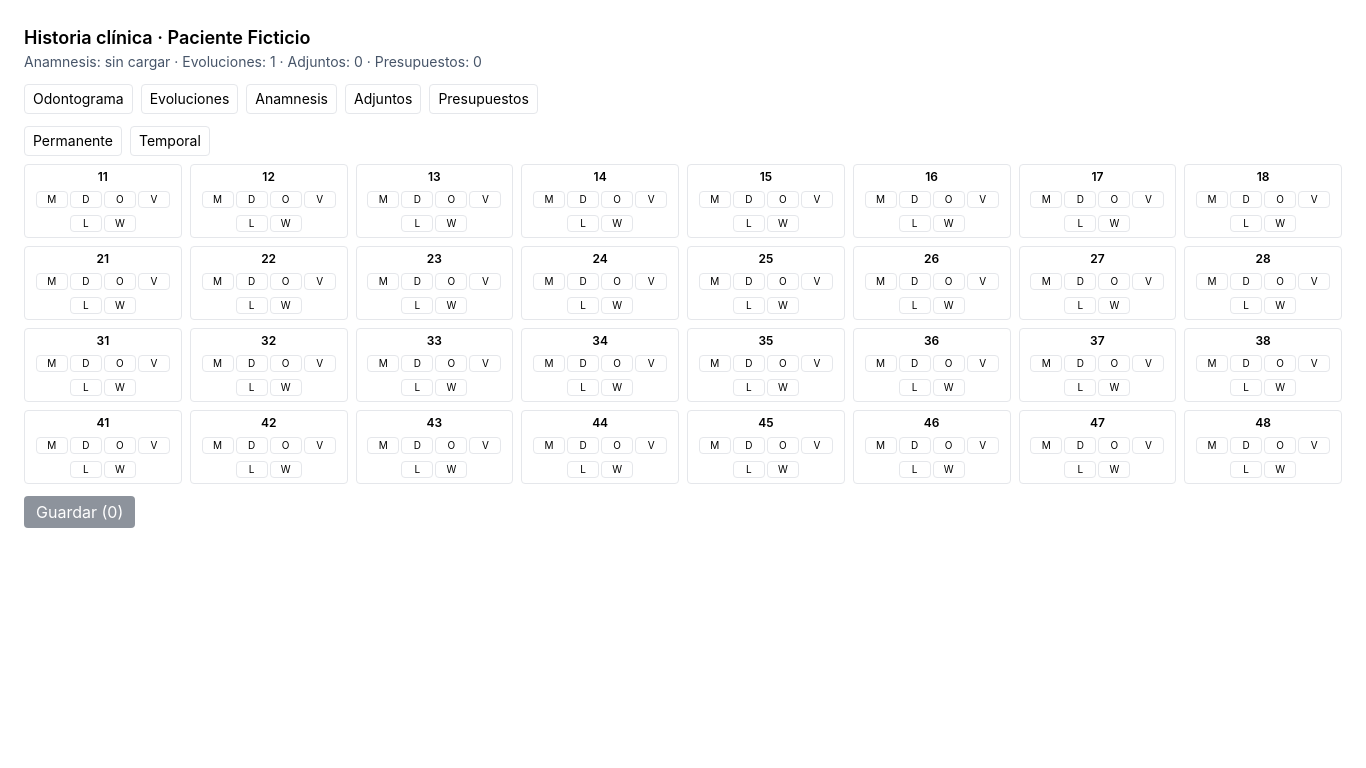
Test case: Anamnesis › guarda con expected_version y ante conflicto conserva lo escrito
Expected: the heading "Historia clínica · Paciente Ficticio" is shown, [24,27,310,48]
Click the tab "anamnesis".
click(292, 99)  # box [246,84,337,114]
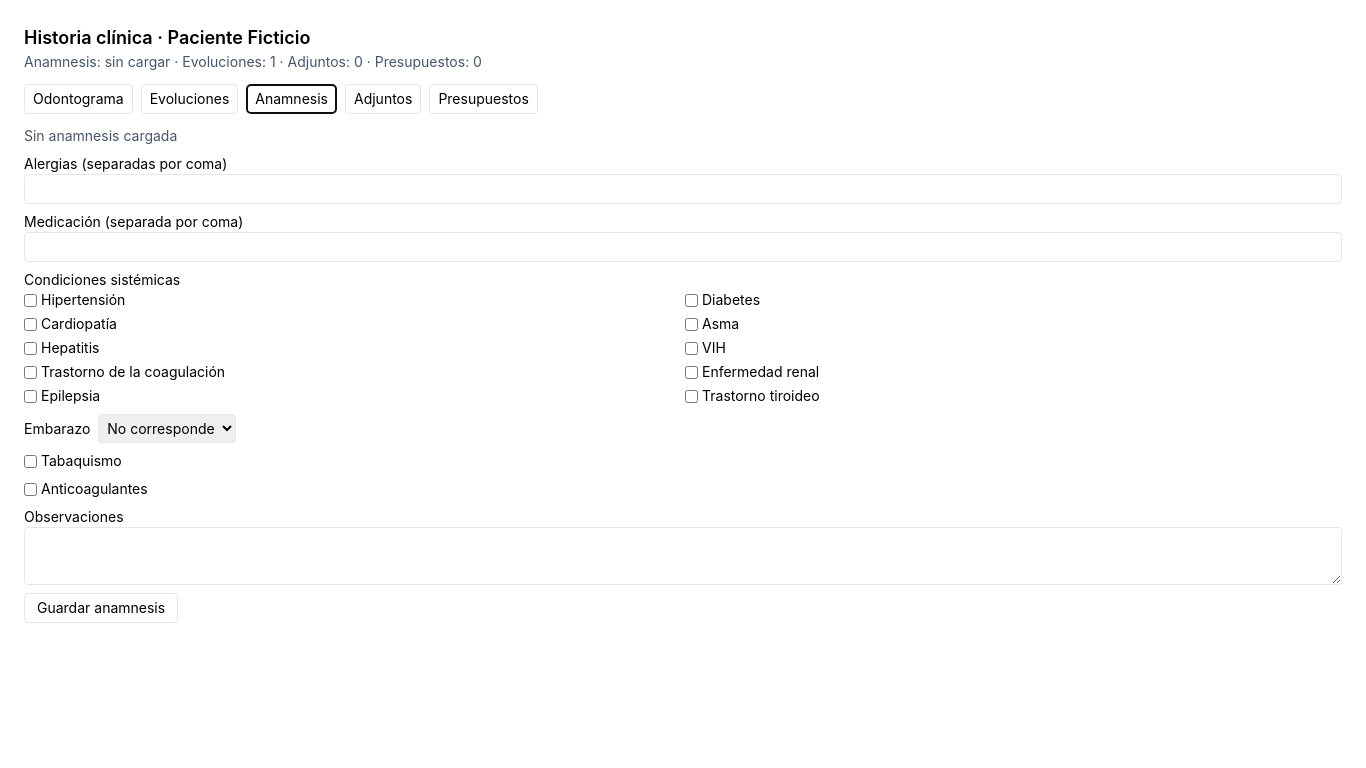
Click the checkbox labelled "Diabetes".
click(692, 300)  # box [685,294,698,306]
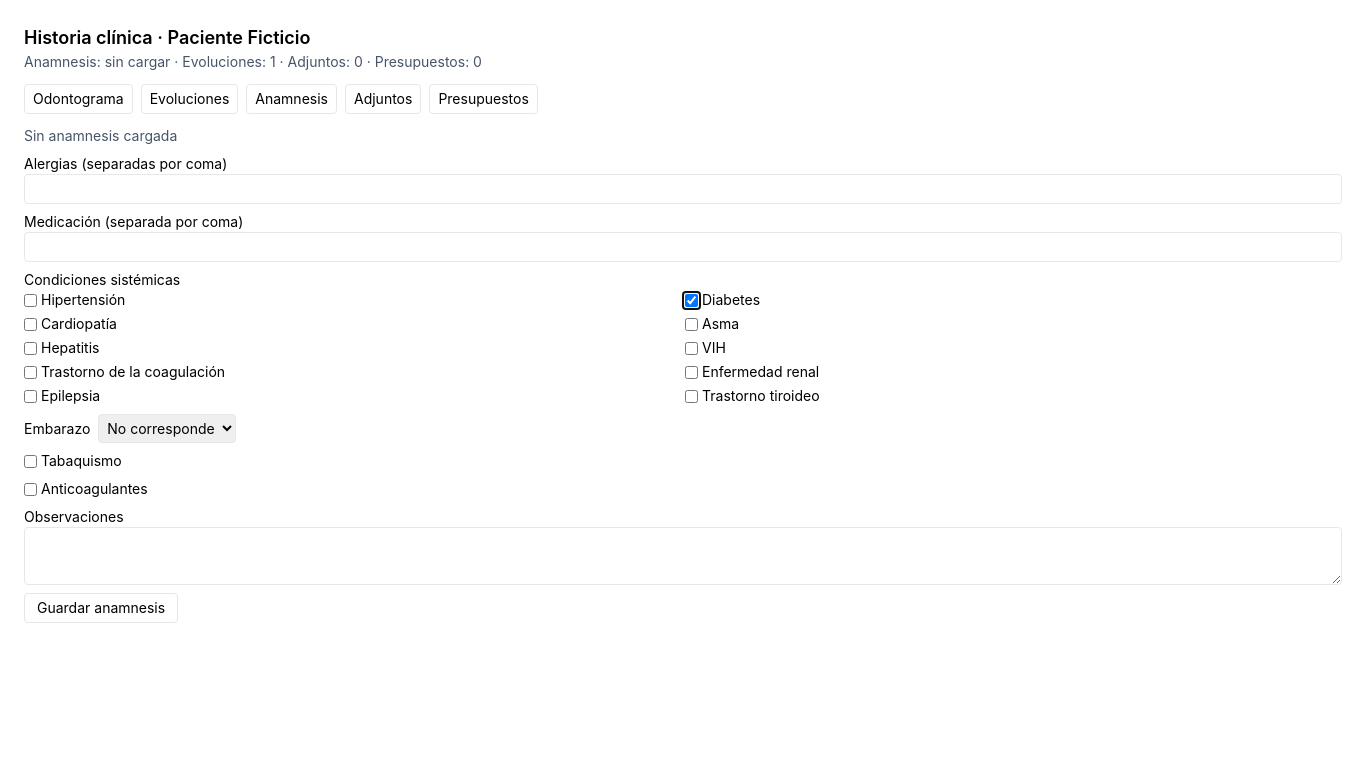
Type "Nota ficticia" into the text box labelled "Observaciones".
click(683, 556); type("Nota ficticia")  # box [24,527,1342,585]
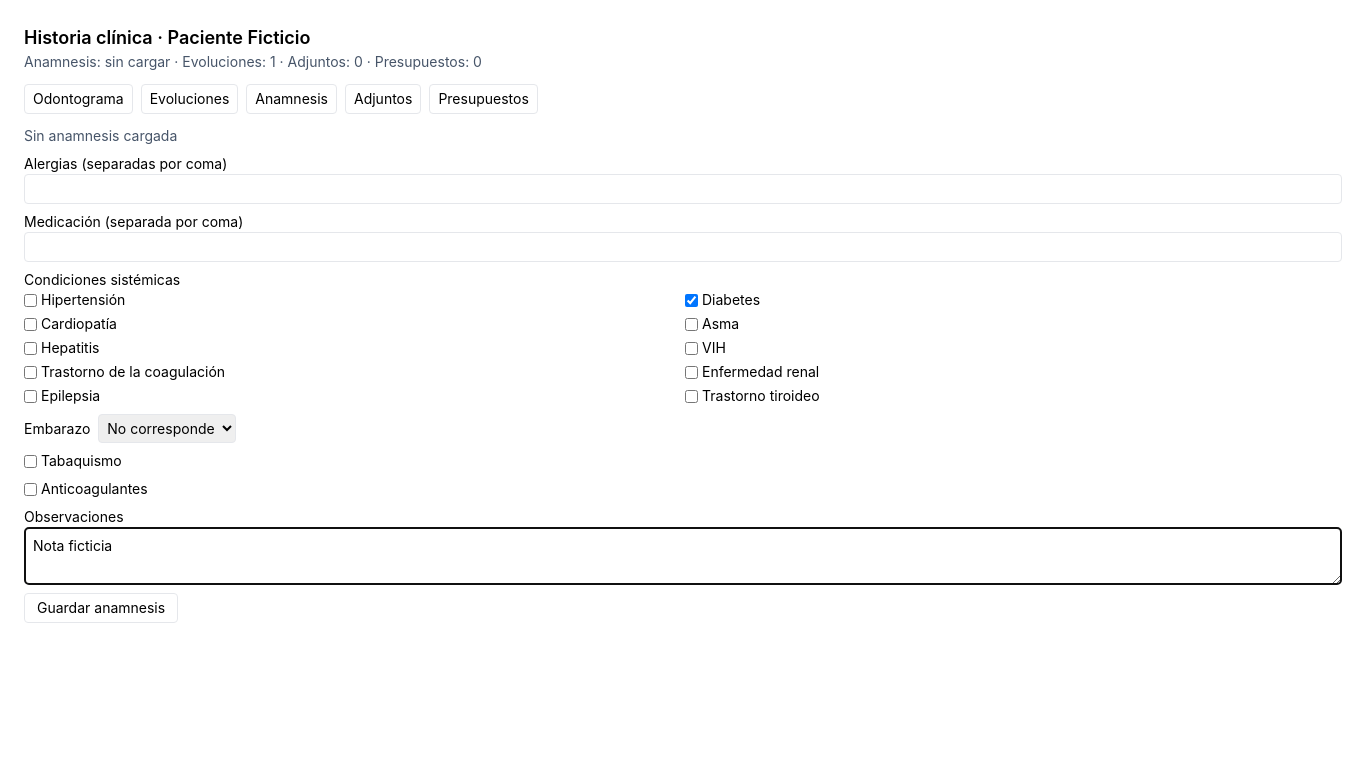
Click the button "Guardar anamnesis".
click(101, 608)  # box [24,593,178,623]
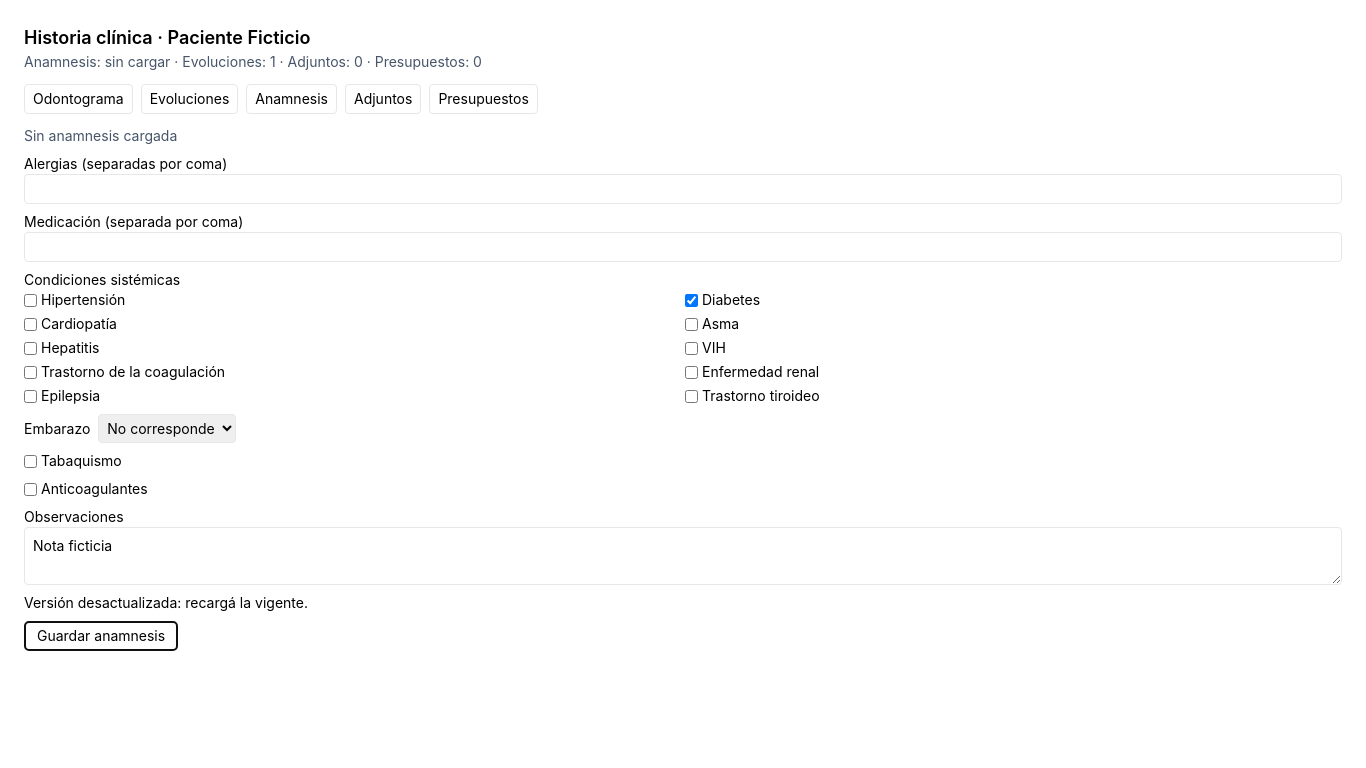
Expected: the message shows "Versión desactualizada", [24,594,308,611]
